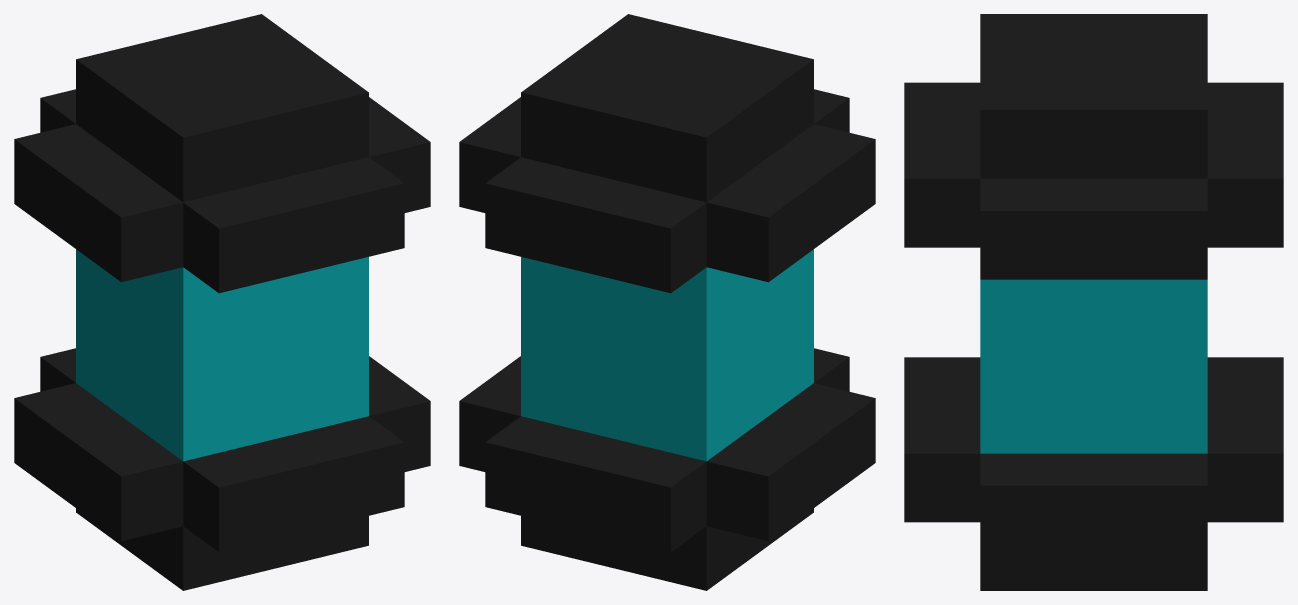
The model's file is bottle.obj.
The picture shows the model from 3 angles, left to right: view 1: azimuth 30°, elevation 25°; view 2: azimuth 150°, elevation 25°; view 3: azimuth 270°, elevation 25°; orthographic projection. The views are drawn at different scales.
Bounding box in the file's own units: 0.5 × 0.7 × 0.5.
Materials: 1 (1 with a texture image).
